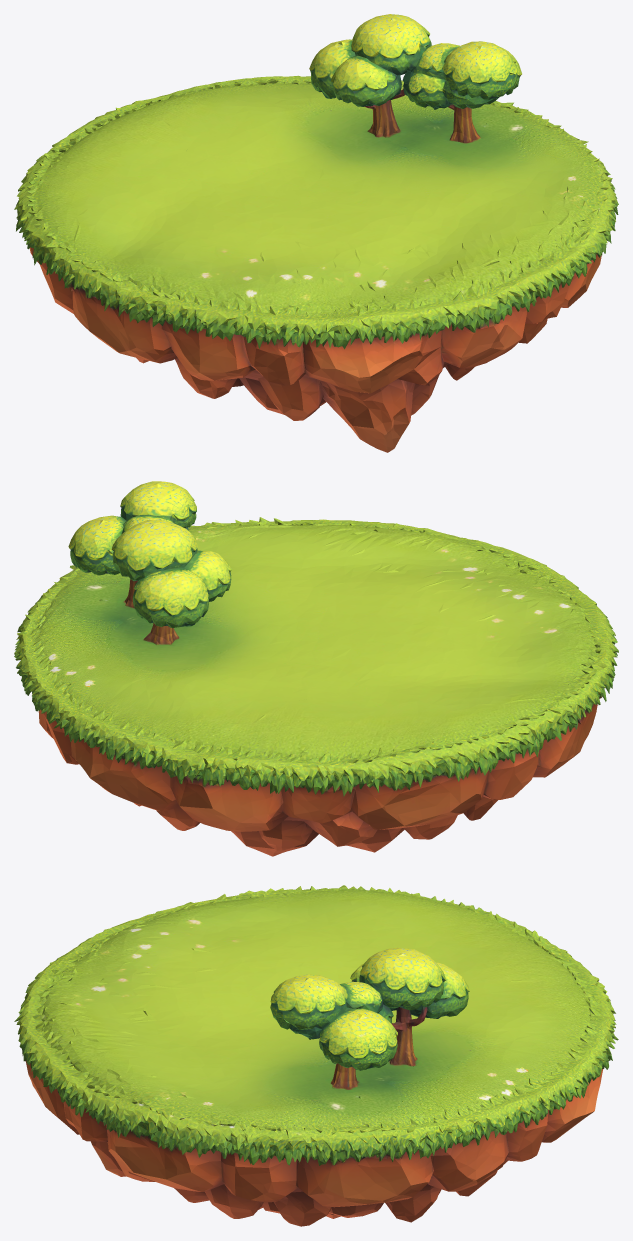
The model's file is TERRAIN_1_spring.glb.
The picture shows the model from 3 angles, top to bottom: view 1: azimuth 30°, elevation 25°; view 2: azimuth 150°, elevation 25°; view 3: azimuth 270°, elevation 25°; orthographic projection.
Visible parts, largest first — view 1: tripo_node_93b09476-0557-4c40-be81-f8c103551c93; view 2: tripo_node_93b09476-0557-4c40-be81-f8c103551c93; view 3: tripo_node_93b09476-0557-4c40-be81-f8c103551c93.
Boxes of the visible parts, x1,y1,x2,y2 form: tripo_node_93b09476-0557-4c40-be81-f8c103551c93: (14,14,618,452); tripo_node_93b09476-0557-4c40-be81-f8c103551c93: (14,481,618,856); tripo_node_93b09476-0557-4c40-be81-f8c103551c93: (14,885,618,1226).
Size of the model in its own units: 8.97 by 5 by 9.
1 material, 1 textured.
